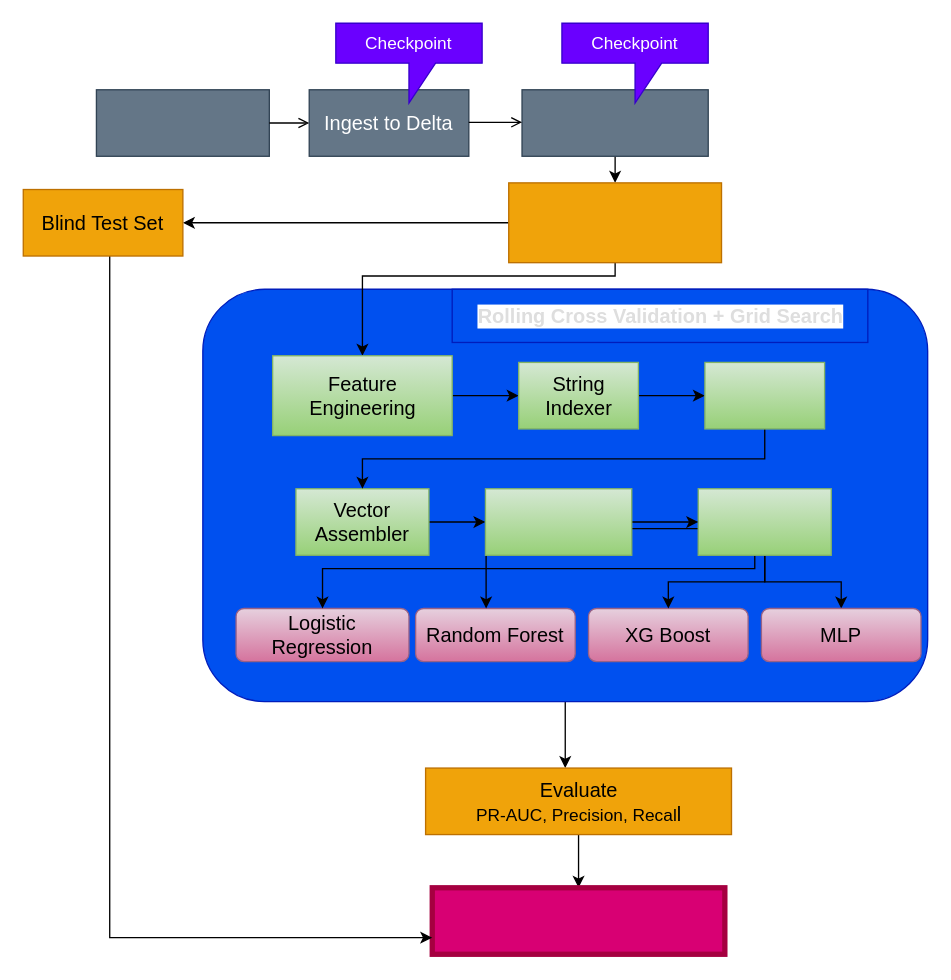
Some shapes in this 951 by 980 pixel diagram are drawn without their labels. The shapes that lost their labels are listed below. From the top down, each one's centre as x and y in pixels, then its label:
At (x=182, y=122): "Raw OTPW".
At (x=614, y=122): "Clean N ulls/ Duplicates/ Outliers".
At (x=614, y=222): "Split by time Q1-Q3 train Q4 held out".
At (x=764, y=395): "OneHot".
At (x=558, y=521): "Min Max Scale".
At (x=764, y=521): "Scale fit on train".
At (x=578, y=920): "Show Delay Probability Per Flight".
